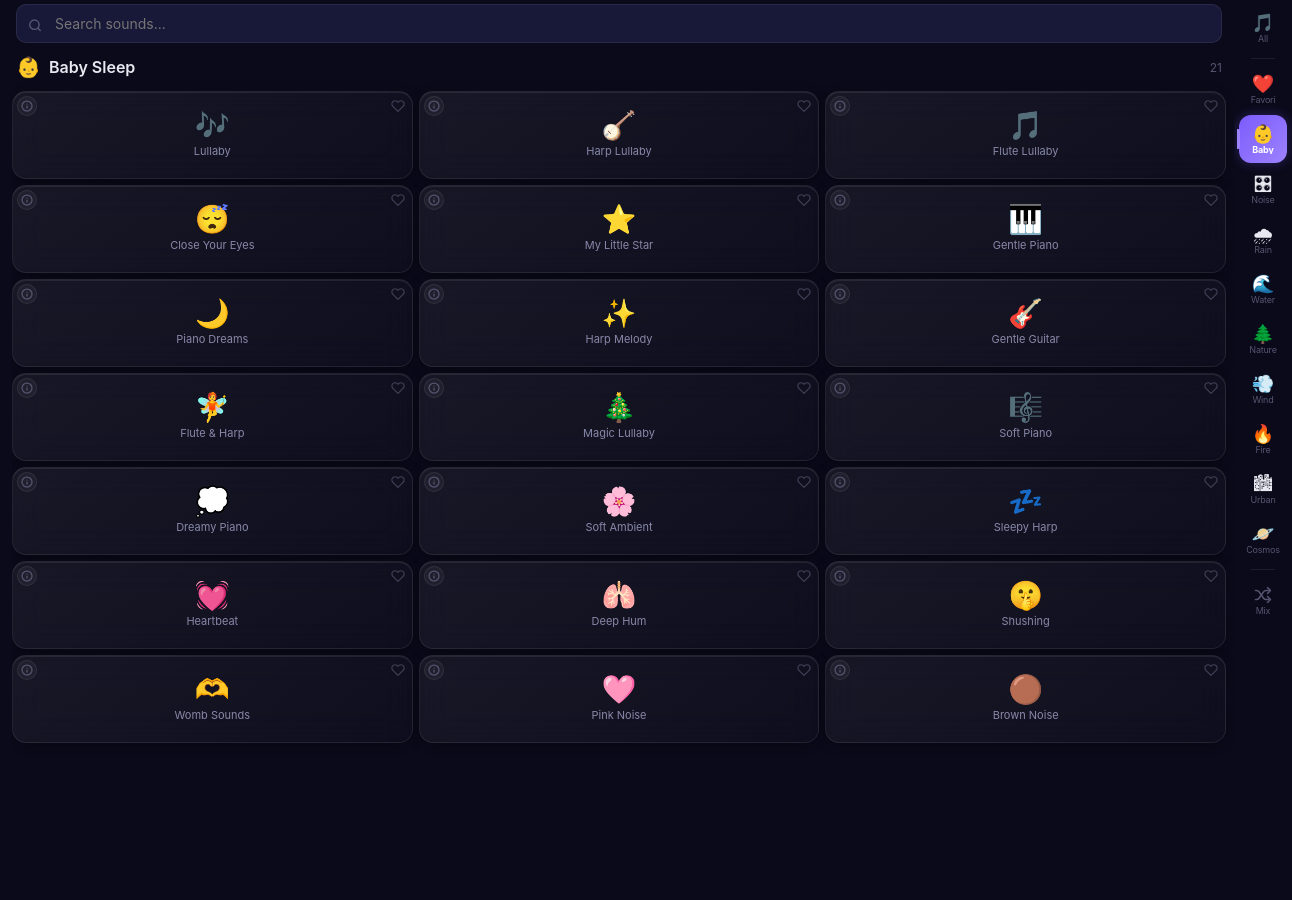
Test: SoundGrid › should filter sounds when a category is clicked
The width and height of the screenshot is (1292, 900).
# Click on Noise in sidebar
Click the text "Noise": [1263, 199] box [1251,194,1275,204]
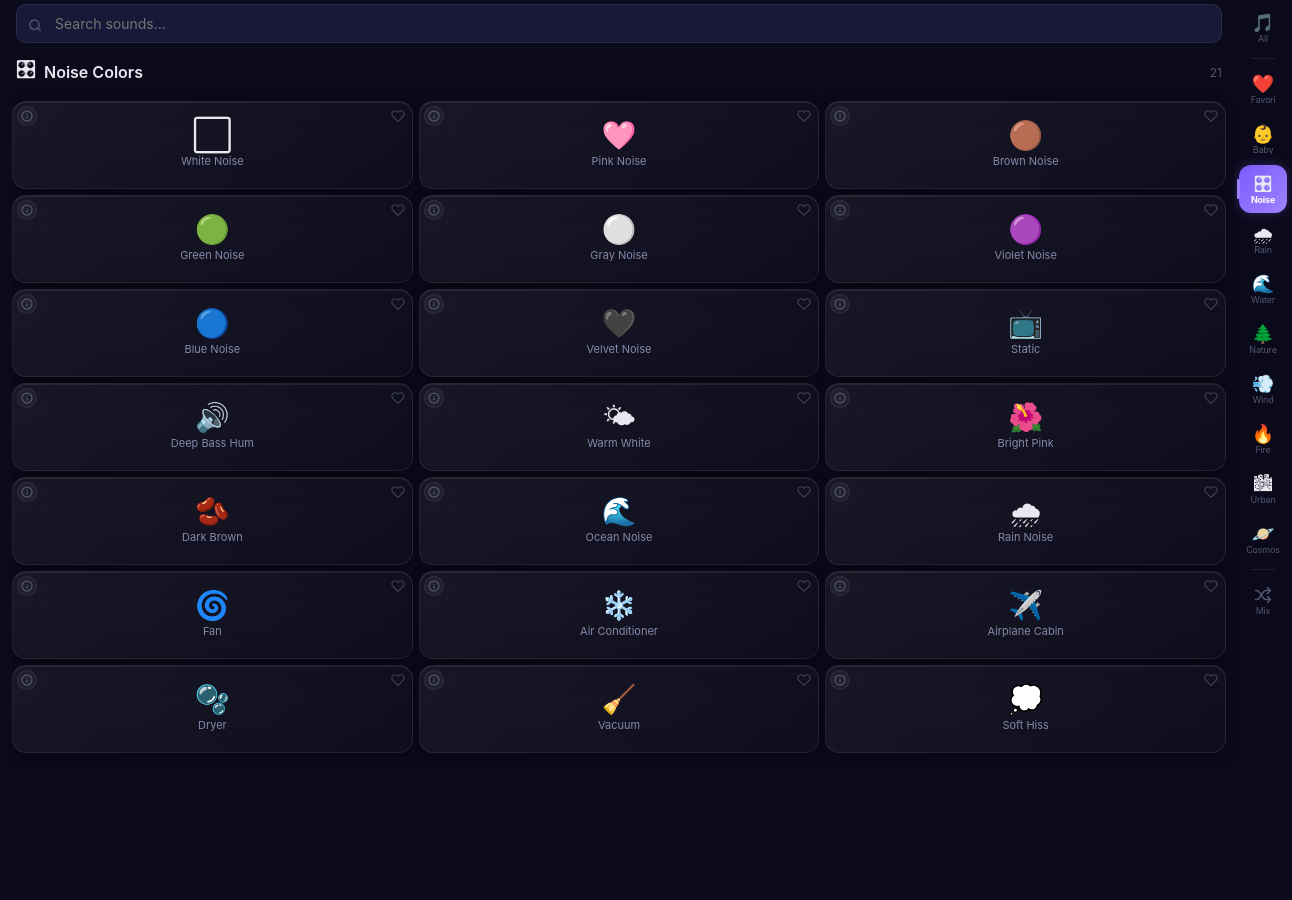
Expected: the text "White Noise" is shown, [179,155,246,169]
Expected: the text "Pink Noise" is shown, [589,155,648,169]
